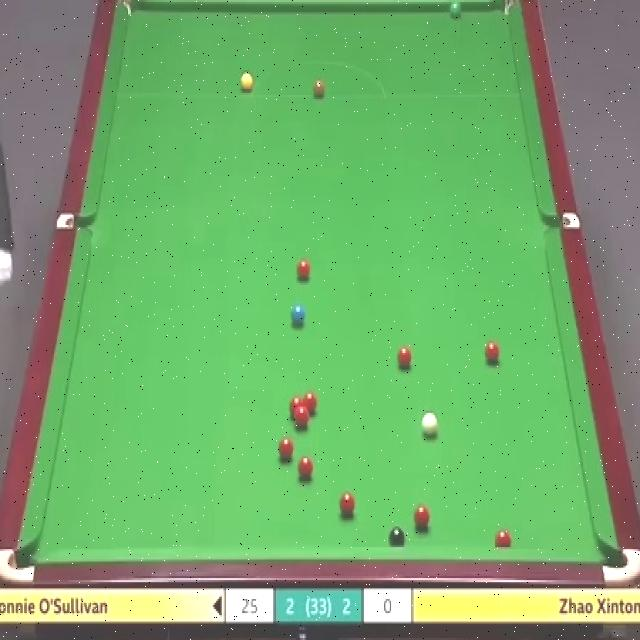black-ball: (389, 525, 405, 548)
blue-ball: (290, 304, 307, 326)
brown-ball: (312, 76, 325, 97)
green-ball: (448, 0, 462, 17)
red-ball: (298, 452, 316, 481), (339, 490, 356, 520), (413, 506, 431, 533), (396, 342, 413, 370), (278, 434, 293, 464), (484, 341, 499, 366), (289, 396, 303, 422), (304, 392, 318, 416), (494, 528, 512, 546), (295, 410, 310, 430), (298, 258, 311, 280)
white-ball: (419, 411, 440, 439)
yellow-ball: (240, 75, 252, 92)
